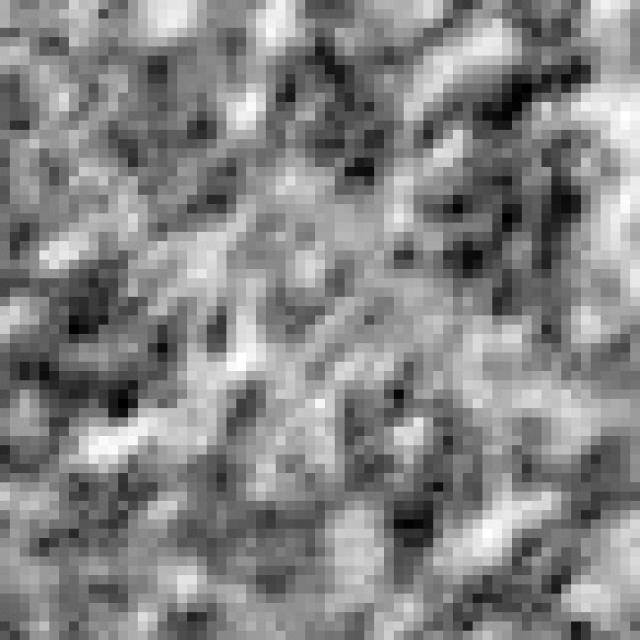inner: (209, 201, 427, 448)
lobe: (338, 378, 640, 628), (392, 56, 618, 340), (24, 442, 254, 631), (58, 39, 253, 247), (9, 241, 200, 435), (259, 19, 423, 197)
outer: (0, 4, 640, 640)
